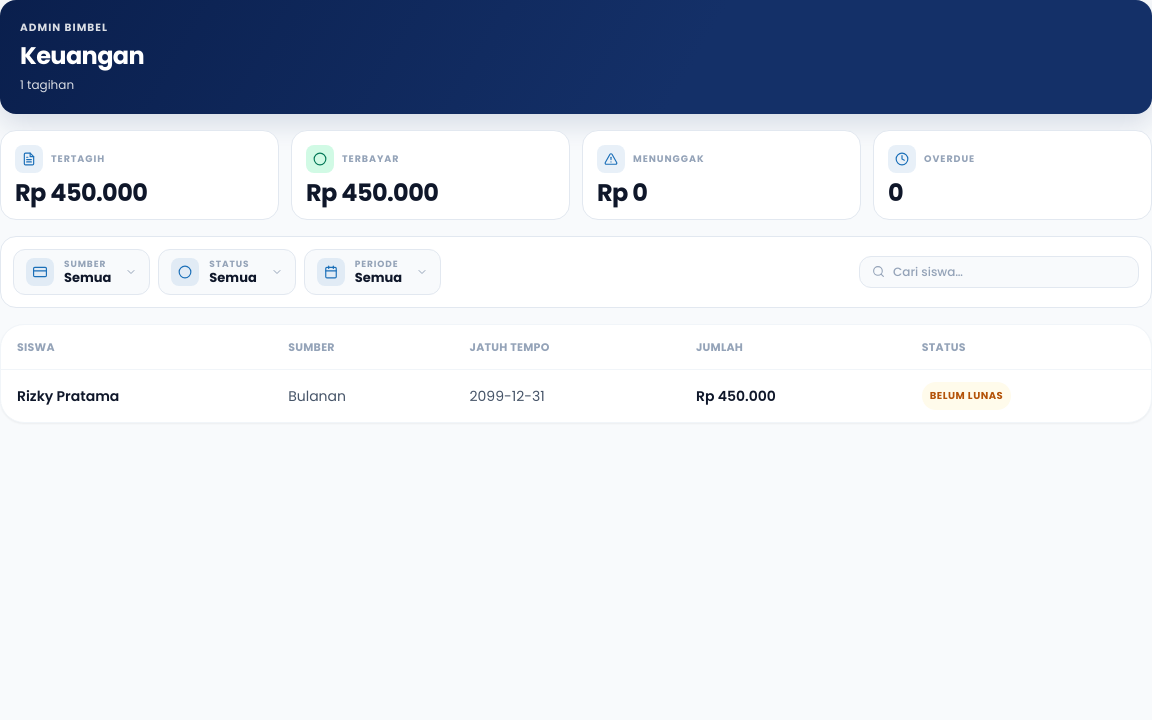
Scenario: reverting a bill back to belum lunas › asks first, and posts nothing until the admin confirms
Click the button with test id "bill-row" at (68, 396), box top-left (1, 369), bottom-right (1151, 422)
(page scrolled)
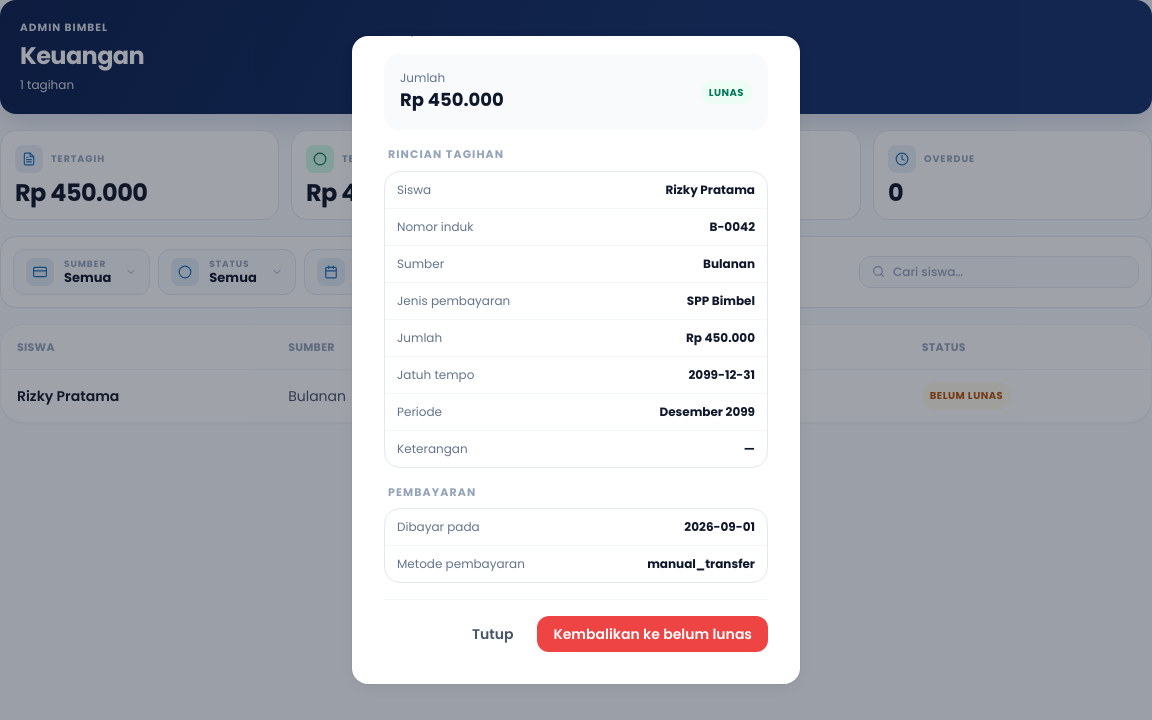
Click the button with test id "bill-detail-revert-paid" at (653, 634), box top-left (537, 616), bottom-right (768, 652)
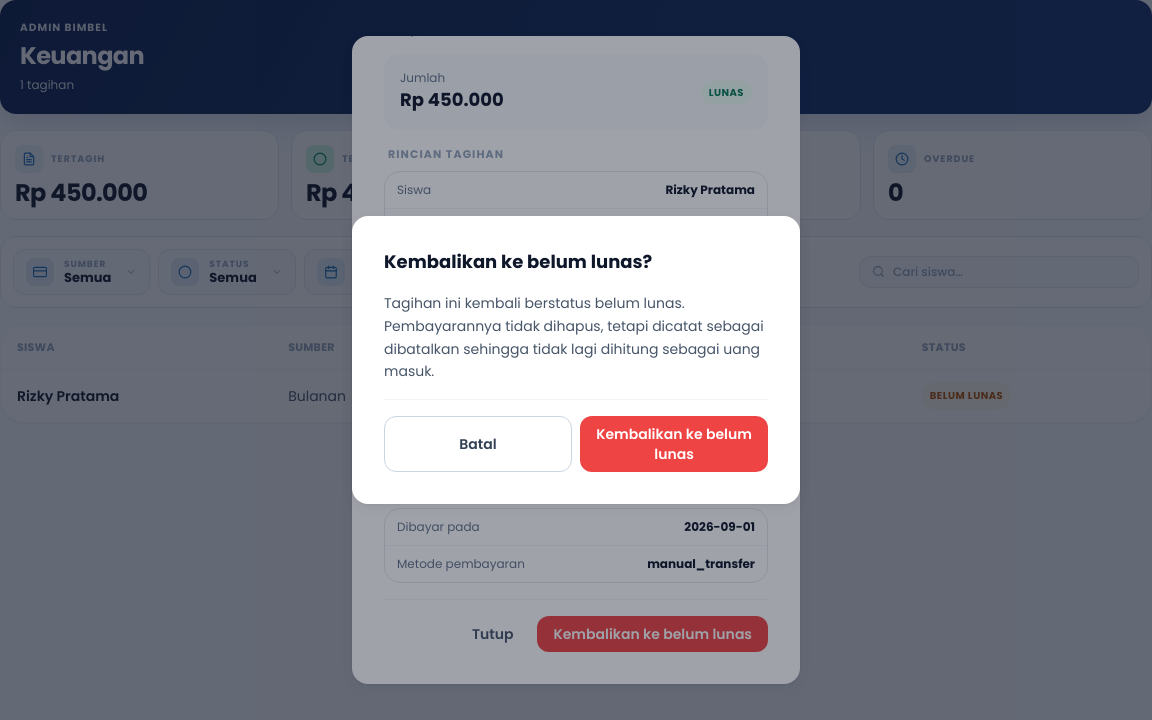
Result: the dialog with test id "confirm-dialog" is shown at top-left (352, 216), bottom-right (800, 504)
